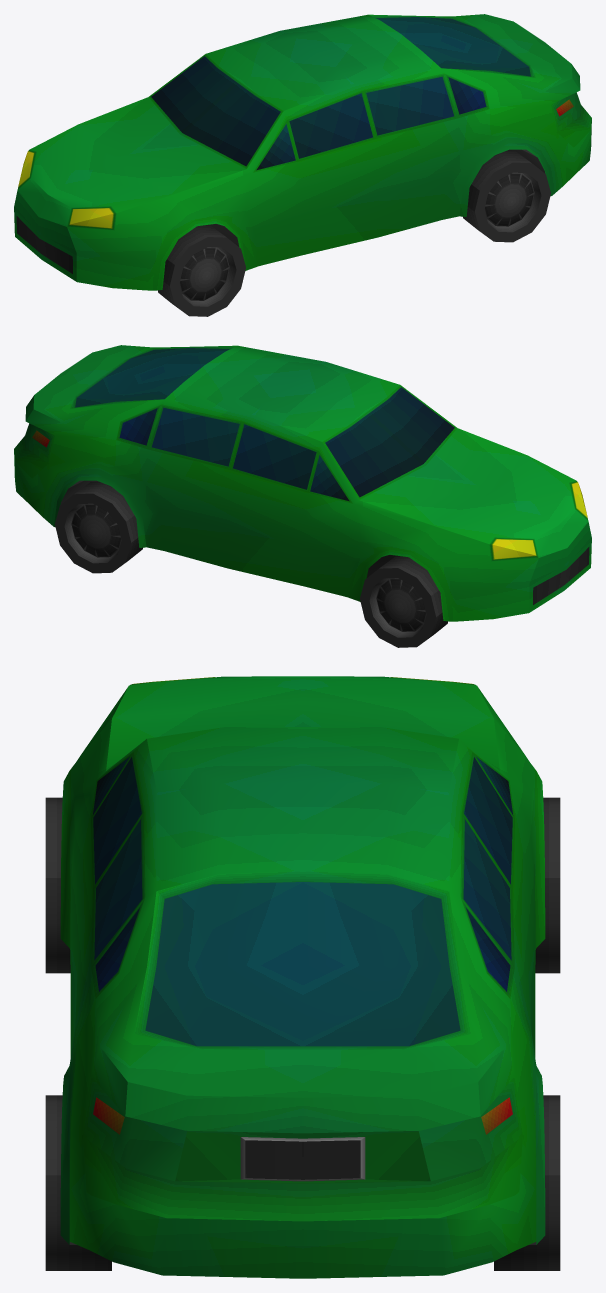
Rendered from toycarset.fbx.
3 renders of one model, top to bottom at view 1: azimuth 30°, elevation 25°; view 2: azimuth 150°, elevation 25°; view 3: azimuth 270°, elevation 25°, orthographic. The views are drawn at different scales.
Visible parts, largest first — view 1: Toycar1; view 2: Toycar1; view 3: Toycar1.
Boxes of the visible parts, x1,y1,x2,y2 form: Toycar1: [14, 14, 591, 316]; Toycar1: [14, 345, 591, 647]; Toycar1: [45, 676, 560, 1278].
Bounding box in the file's own units: 771 × 247 × 329.
